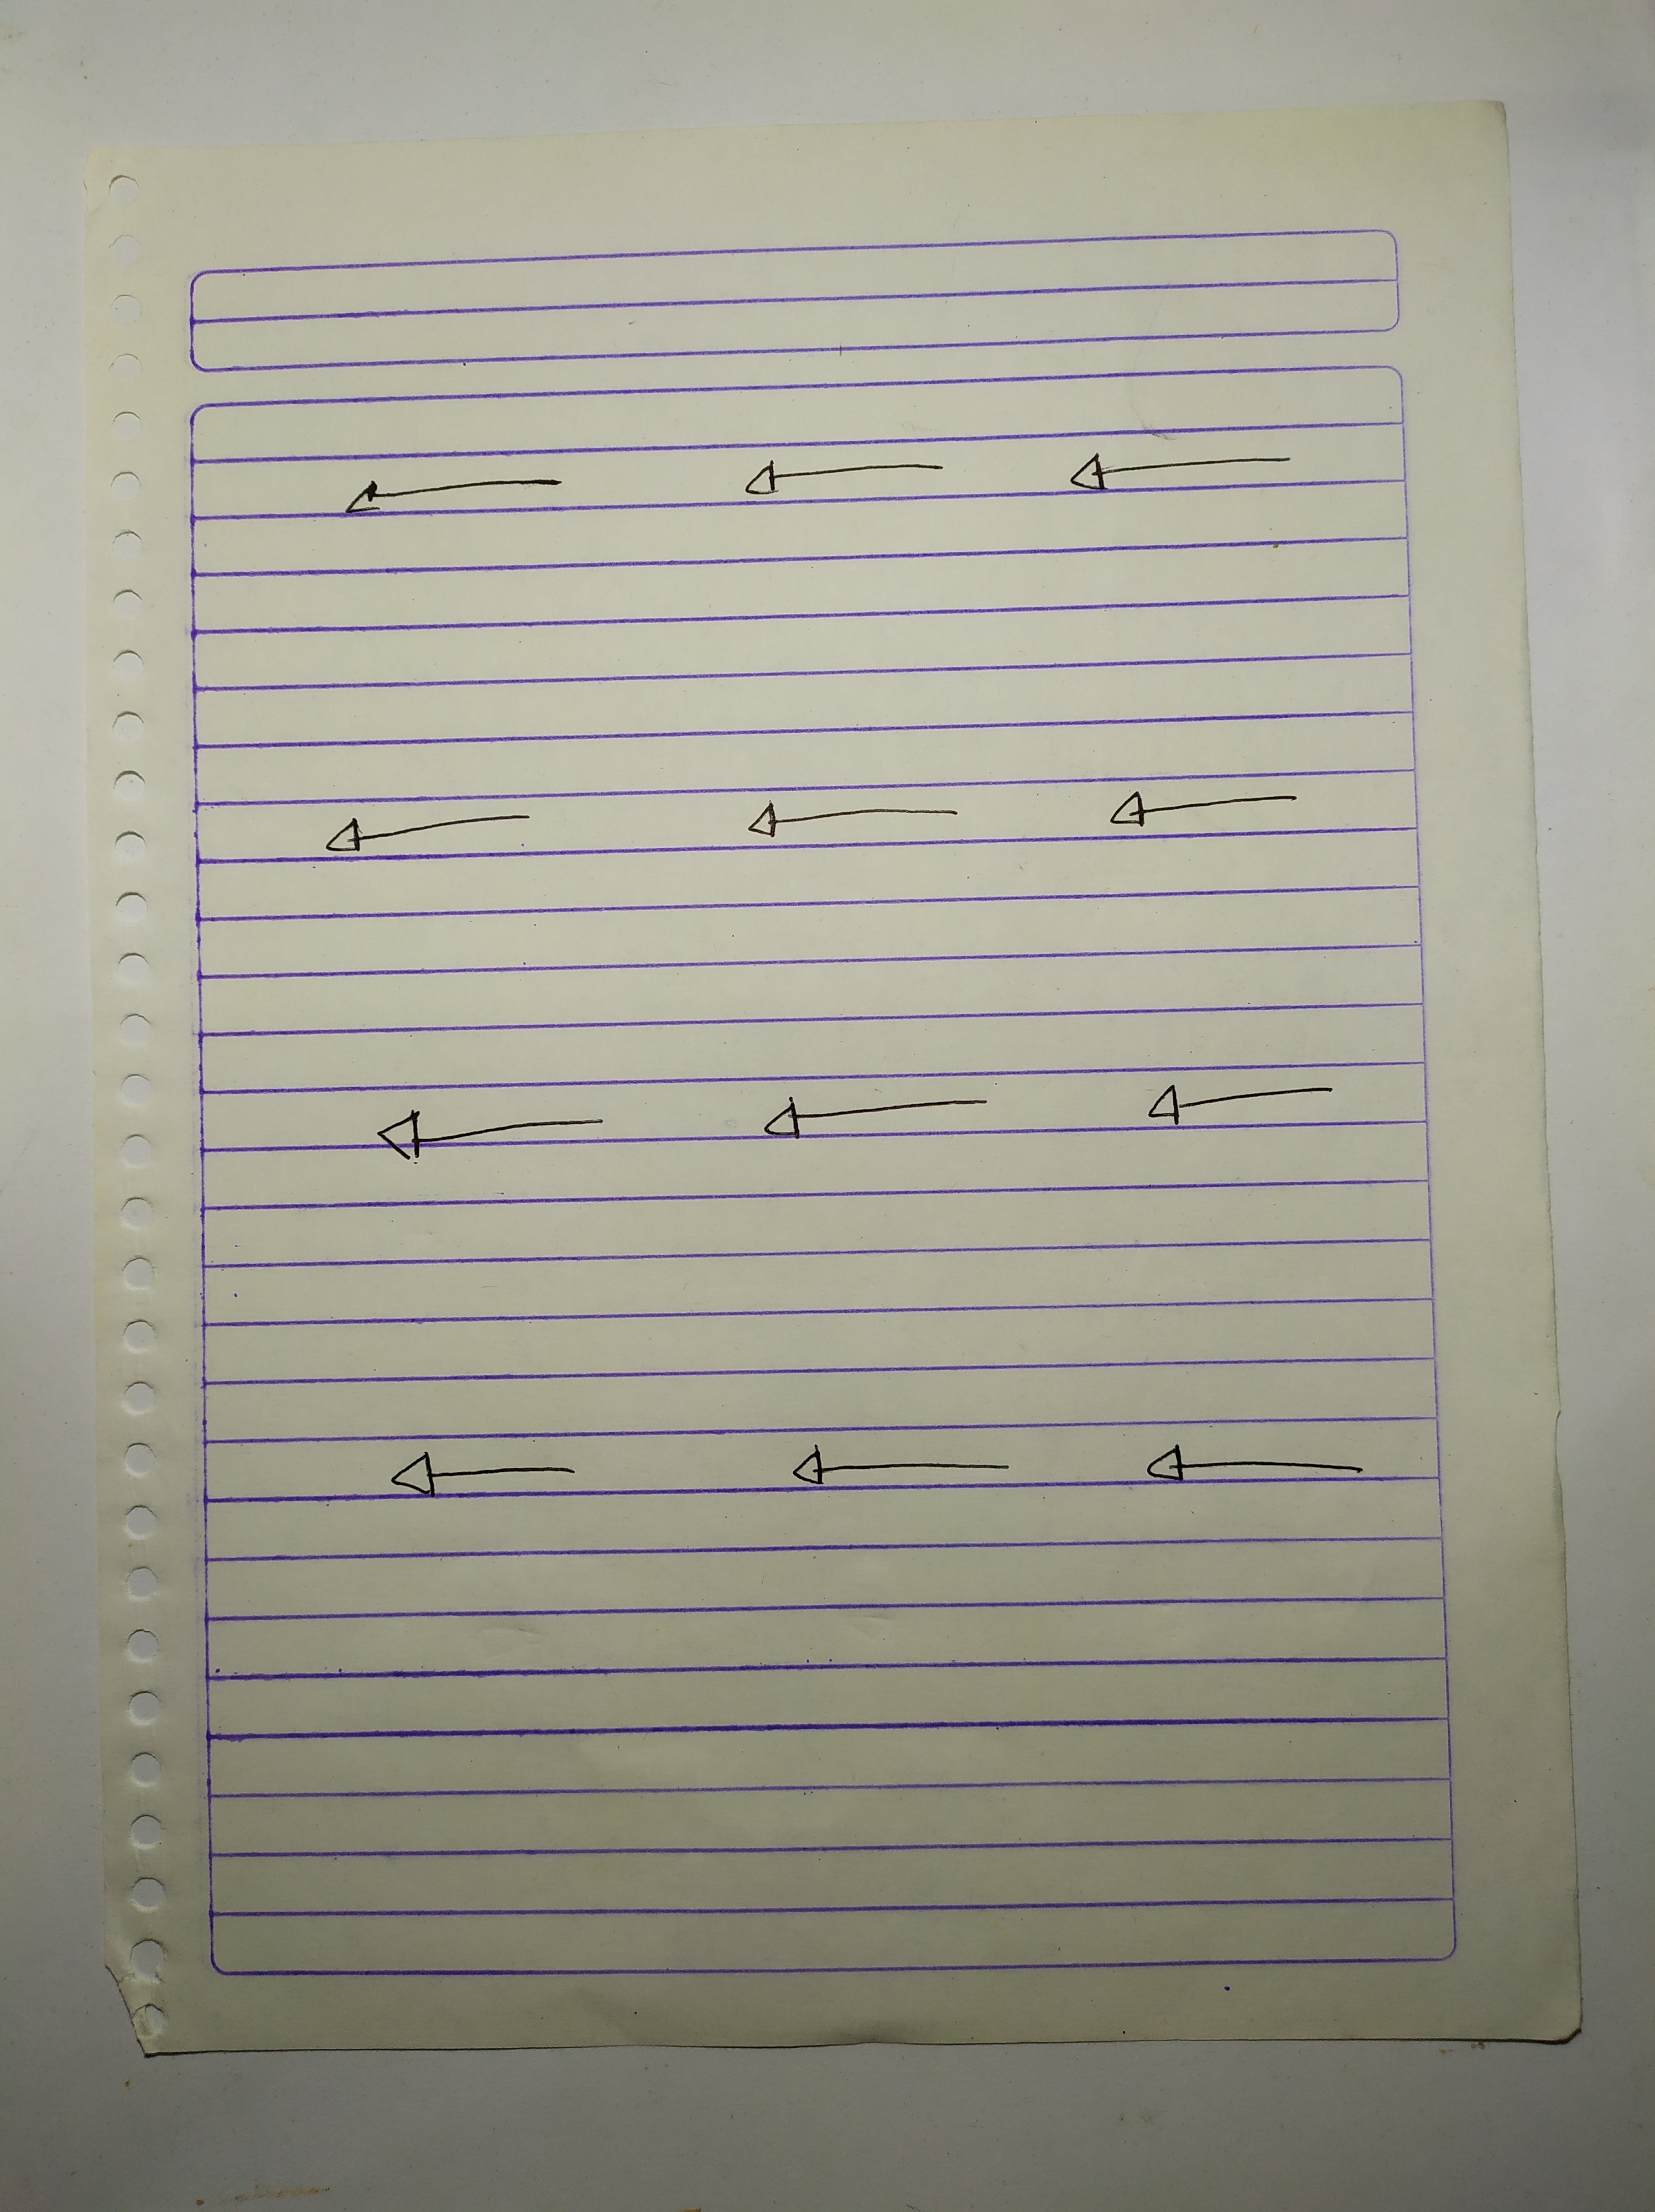arrow_line_left: (348, 1086, 668, 1183), (318, 462, 608, 539), (1121, 1432, 1403, 1507), (1111, 1069, 1365, 1149), (297, 801, 596, 867), (1052, 441, 1326, 513), (737, 1086, 1024, 1152), (716, 792, 998, 858), (775, 1439, 1038, 1507), (718, 450, 991, 514), (1081, 782, 1335, 848), (365, 1446, 600, 1510)
